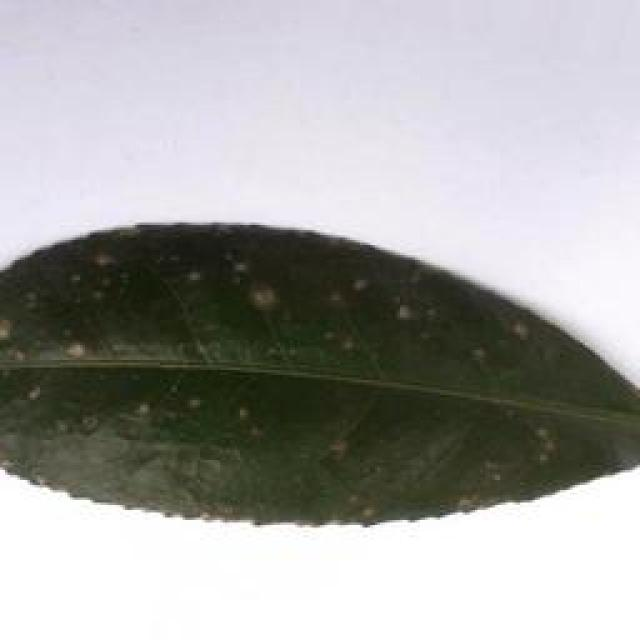Algal Leaf Spot: (0, 218, 638, 540)
